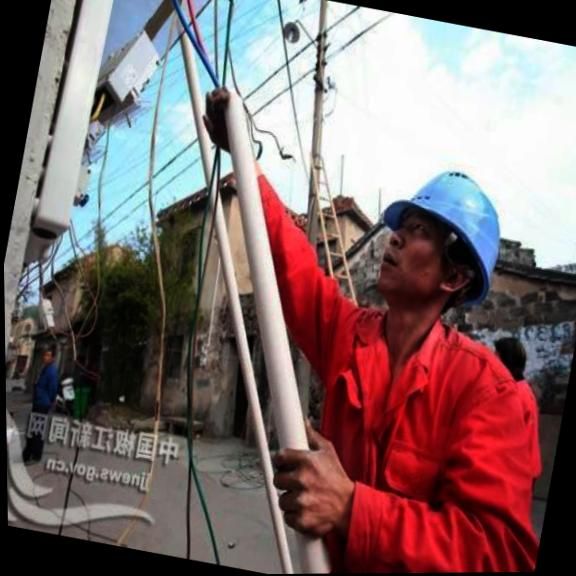no_safety_vest: (267, 290, 576, 574), (26, 360, 65, 415)
